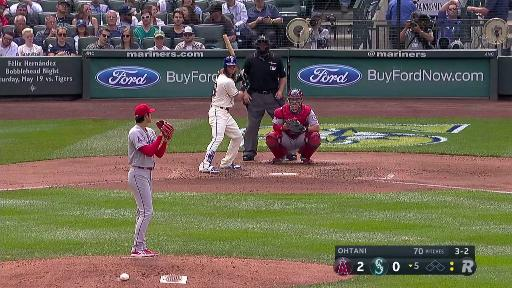pitcher: (127, 103, 174, 256)
